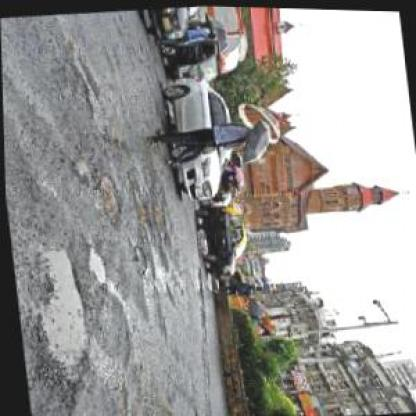pothole: (27, 240, 92, 380), (93, 174, 123, 224), (83, 244, 110, 287), (132, 243, 150, 276)
